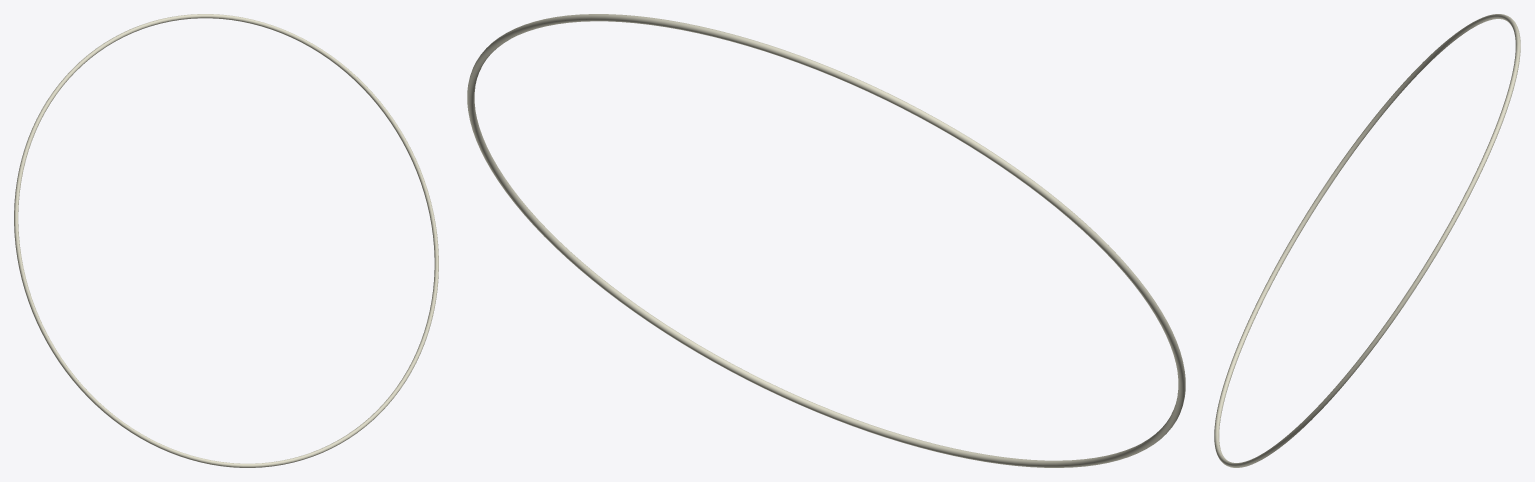
The model's file is Reflector_Rim.glb.
3 views of the same model, side by side, from view 1: azimuth 30°, elevation 25°; view 2: azimuth 150°, elevation 25°; view 3: azimuth 270°, elevation 25° (orthographic). The views are drawn at different scales.
Visible parts, largest first — view 1: Reflector_Rim; view 2: Reflector_Rim; view 3: Reflector_Rim.
Part boxes in pixels (left/top/right/bottom): Reflector_Rim: left=14, top=14, right=438, bottom=467; Reflector_Rim: left=467, top=14, right=1185, bottom=467; Reflector_Rim: left=1214, top=14, right=1520, bottom=467.
Size of the model in its own units: 24.23 by 19.89 by 13.99.
